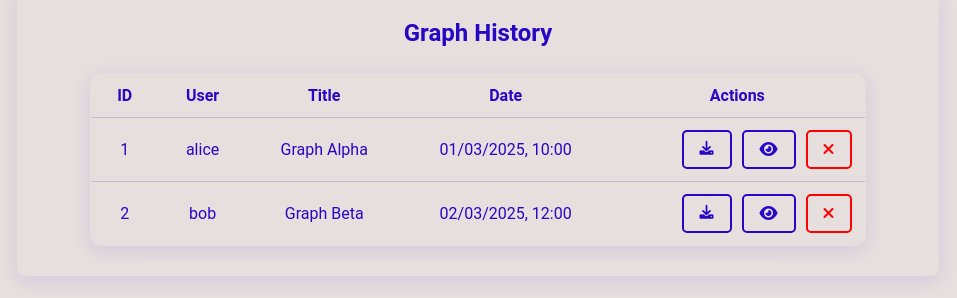
Test: History Component — actions › supprimer une entrée la retire de la liste
Expected: the text "Graph Alpha" is shown, [247,118,401,182]
Click the button with class "delete-btn" in the row of "alice" at (828, 150), box [806,130,852,169]
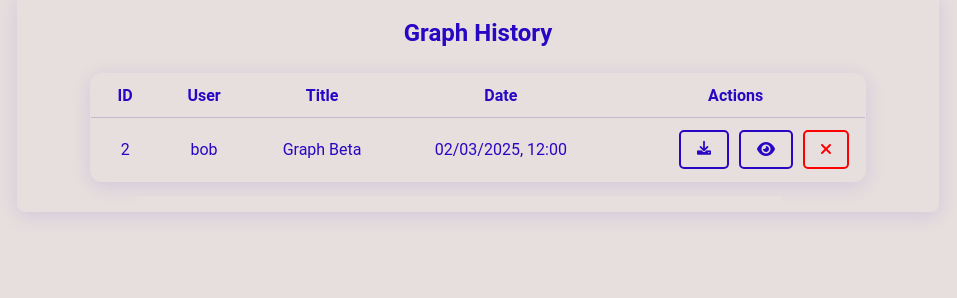
Expected: the text "Graph Alpha" is gone
